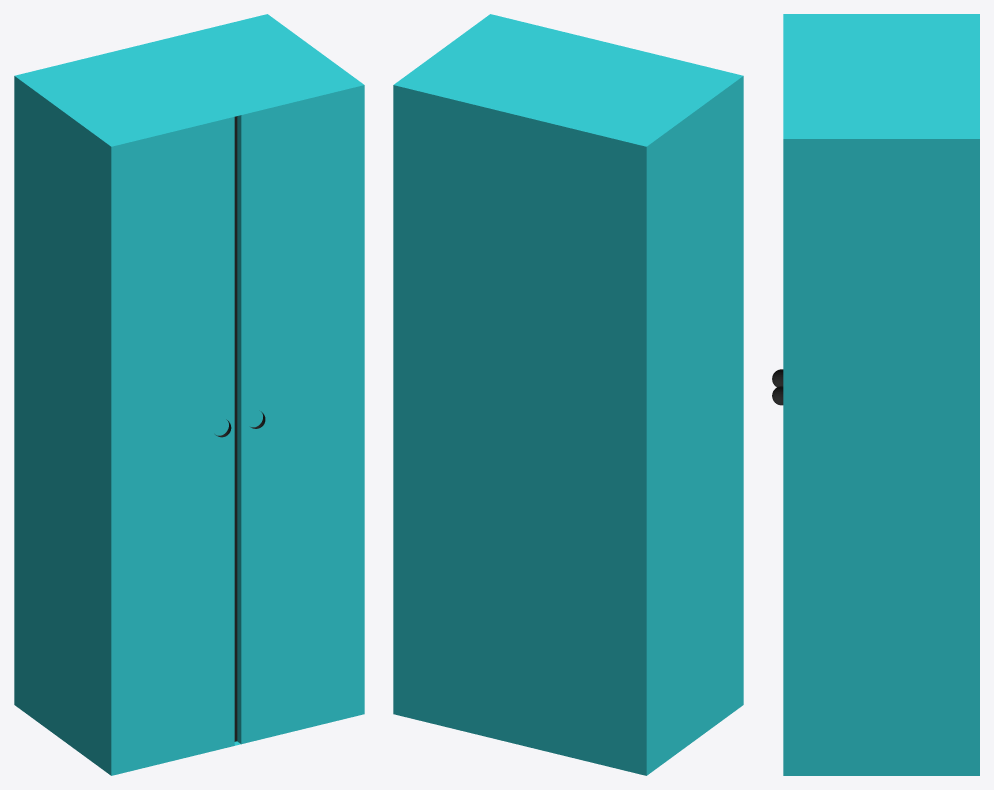
Rendered from armario.fbx.
The picture shows the model from 3 angles, left to right: view 1: azimuth 30°, elevation 25°; view 2: azimuth 150°, elevation 25°; view 3: azimuth 270°, elevation 25°; orthographic projection.
Parts seen in each view (by area): view 1: Armario; view 2: Armario; view 3: Armario.
Part boxes in pixels (x1,y1,x2,y2): Armario: (14, 14, 364, 775); Armario: (393, 14, 743, 775); Armario: (772, 14, 979, 775).
Size of the model in its own units: 137 by 325 by 96.23.
